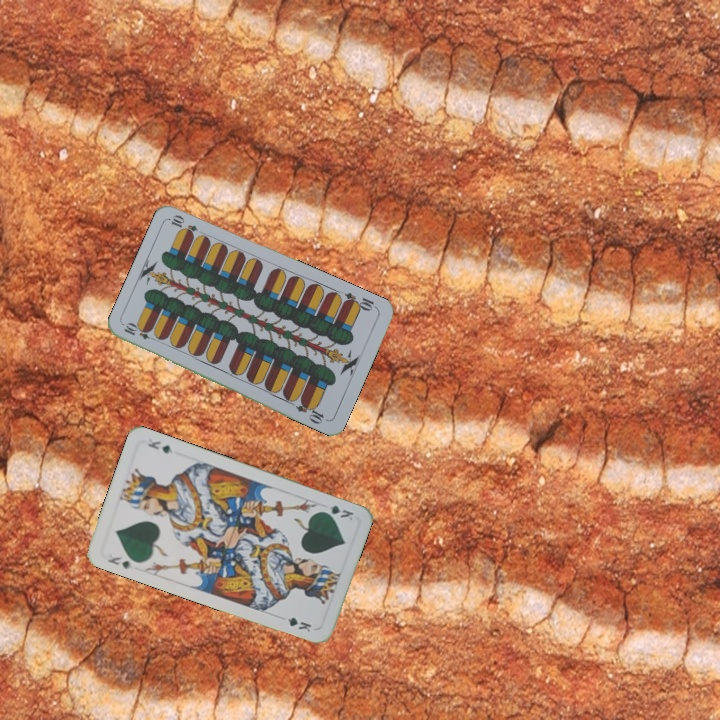E10: (339, 288, 380, 314), (120, 320, 160, 344)
GK: (317, 501, 356, 523), (104, 552, 135, 572)
